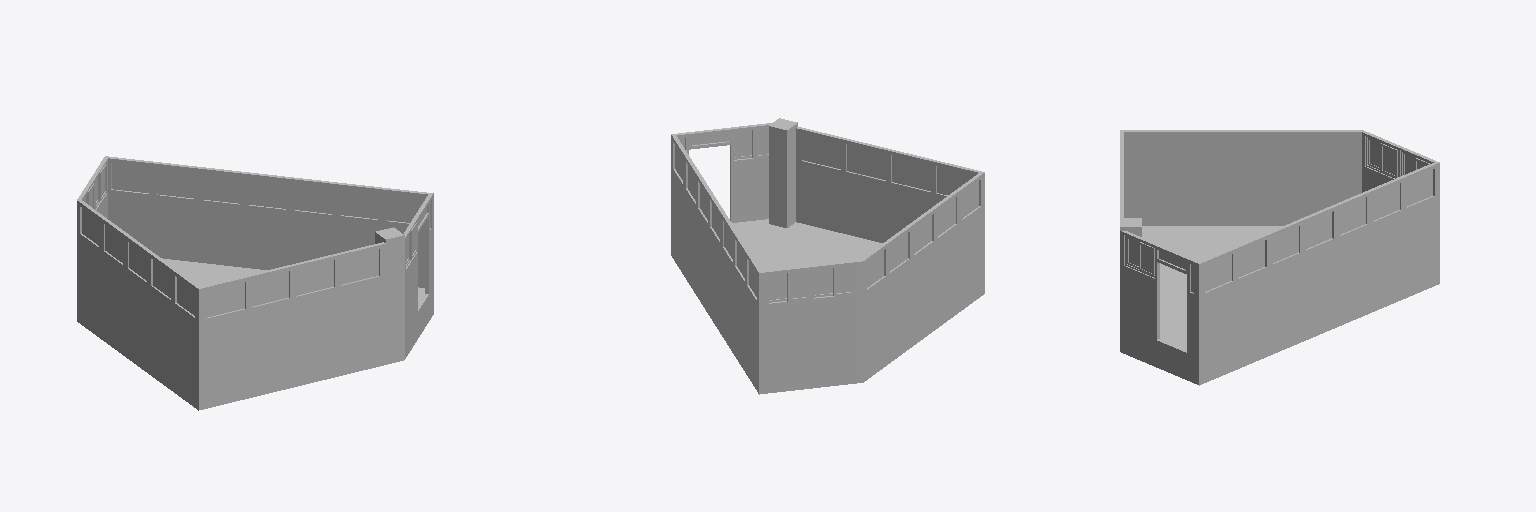
3 views of the same model, side by side, from view 1: azimuth 30°, elevation 25°; view 2: azimuth 150°, elevation 25°; view 3: azimuth 270°, elevation 25° (orthographic).
Parts seen in each view (by area): view 1: Mesh60 Group3 Model, Mesh1 Group1 Model, Mesh2 Group2 Model, Mesh10 Group15 Group13 Group3 Model, Mesh32 Group48 Group46 Group3 Model, Mesh8 Group12 Group10 Group3 Model, Mesh4 Group6 Group4 Group3 Model, Mesh6 Group9 Group7 Group3 Model, Mesh30 Group45 Group43 Group3 Model, Mesh28 Group42 Group40 Group3 Model, Mesh26 Group39 Group37 Group3 Model, Mesh24 Group36 Group34 Group3 Model (+2 smaller); view 2: Mesh60 Group3 Model, Mesh1 Group1 Model, Mesh2 Group2 Model, Mesh4 Group6 Group4 Group3 Model, Mesh6 Group9 Group7 Group3 Model, Mesh8 Group12 Group10 Group3 Model, Mesh10 Group15 Group13 Group3 Model; view 3: Mesh60 Group3 Model, Mesh1 Group1 Model, Mesh12 Group18 Group16 Group3 Model, Mesh14 Group21 Group19 Group3 Model, Mesh16 Group24 Group22 Group3 Model, Mesh18 Group27 Group25 Group3 Model, Mesh20 Group30 Group28 Group3 Model, Mesh22 Group33 Group31 Group3 Model, Mesh24 Group36 Group34 Group3 Model, Mesh26 Group39 Group37 Group3 Model, Mesh28 Group42 Group40 Group3 Model, Mesh30 Group45 Group43 Group3 Model (+2 smaller).
Part boxes in pixels (x1,y1,x2,y2): Mesh60 Group3 Model: (77, 156, 433, 382); Mesh1 Group1 Model: (77, 259, 433, 410); Mesh2 Group2 Model: (375, 227, 404, 336); Mesh10 Group15 Group13 Group3 Model: (206, 282, 244, 317); Mesh32 Group48 Group46 Group3 Model: (157, 168, 194, 198); Mesh8 Group12 Group10 Group3 Model: (251, 271, 288, 306); Mesh4 Group6 Group4 Group3 Model: (341, 249, 378, 284); Mesh6 Group9 Group7 Group3 Model: (296, 260, 333, 295); Mesh30 Group45 Group43 Group3 Model: (203, 173, 239, 203); Mesh28 Group42 Group40 Group3 Model: (249, 178, 285, 208); Mesh26 Group39 Group37 Group3 Model: (295, 183, 331, 213); Mesh24 Group36 Group34 Group3 Model: (341, 189, 377, 218); Mesh60 Group3 Model: (671, 123, 984, 366); Mesh1 Group1 Model: (671, 219, 984, 394); Mesh2 Group2 Model: (769, 118, 797, 227); Mesh4 Group6 Group4 Group3 Model: (802, 134, 840, 168); Mesh6 Group9 Group7 Group3 Model: (847, 145, 885, 179); Mesh8 Group12 Group10 Group3 Model: (892, 156, 930, 190); Mesh10 Group15 Group13 Group3 Model: (937, 167, 973, 194); Mesh60 Group3 Model: (1120, 130, 1439, 357); Mesh1 Group1 Model: (1120, 226, 1439, 385); Mesh12 Group18 Group16 Group3 Model: (1128, 136, 1166, 162); Mesh14 Group21 Group19 Group3 Model: (1176, 136, 1214, 162); Mesh16 Group24 Group22 Group3 Model: (1223, 136, 1261, 162); Mesh18 Group27 Group25 Group3 Model: (1271, 136, 1309, 162); Mesh20 Group30 Group28 Group3 Model: (1319, 136, 1356, 162); Mesh22 Group33 Group31 Group3 Model: (1205, 255, 1231, 291); Mesh24 Group36 Group34 Group3 Model: (1239, 241, 1264, 276); Mesh26 Group39 Group37 Group3 Model: (1273, 226, 1298, 262); Mesh28 Group42 Group40 Group3 Model: (1306, 212, 1331, 248); Mesh30 Group45 Group43 Group3 Model: (1340, 198, 1365, 234).
Size of the model in its own units: 7.33 by 3.2 by 7.4.